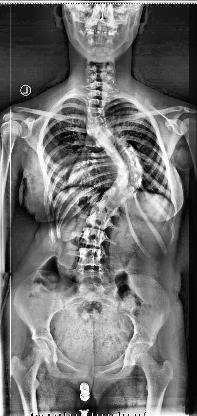Vertebrae: (70, 248, 109, 268), (73, 228, 113, 245), (107, 180, 143, 198), (112, 156, 150, 173), (110, 168, 148, 184), (81, 213, 117, 229), (94, 194, 130, 210), (106, 147, 144, 161), (87, 200, 124, 214), (98, 139, 129, 155), (83, 122, 114, 136), (93, 131, 119, 145), (82, 116, 108, 128), (82, 96, 108, 106), (84, 104, 106, 114)
